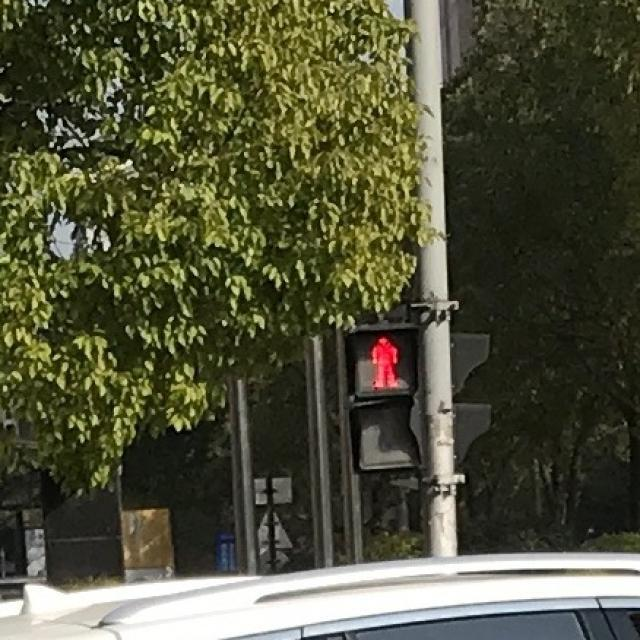red-crossing: (350, 327, 418, 393)
